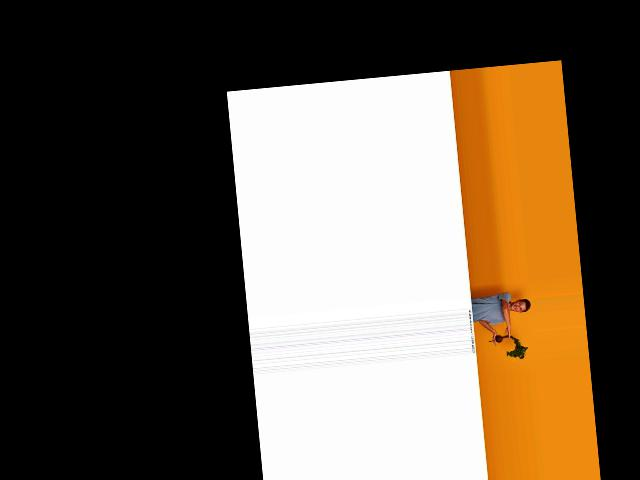beet: (488, 333, 528, 362)
